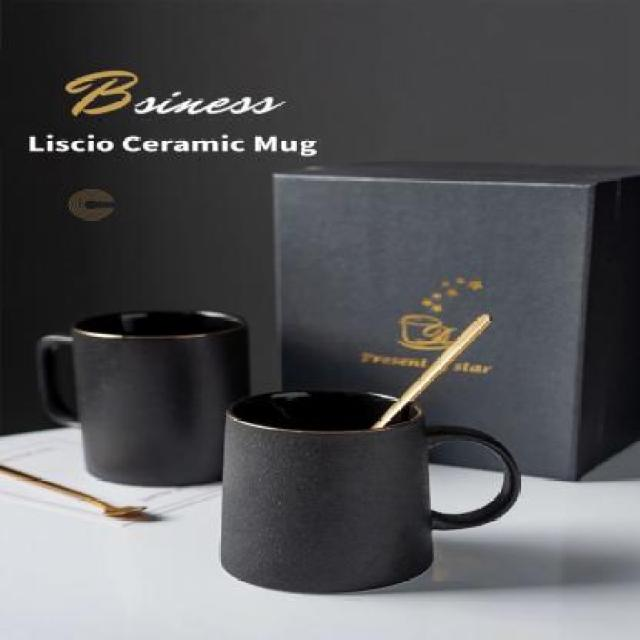cup: (205, 378, 533, 598)
